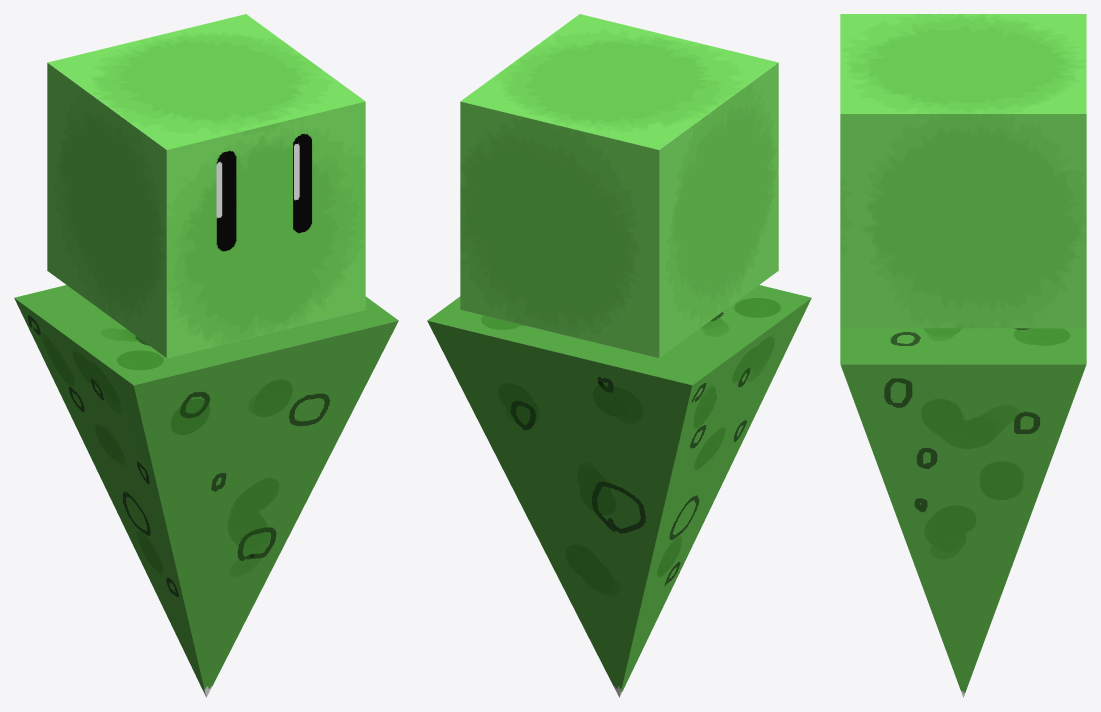
File: clone_head.obj
3 renders of one model, left to right at view 1: azimuth 30°, elevation 25°; view 2: azimuth 150°, elevation 25°; view 3: azimuth 270°, elevation 25°, orthographic. The views are drawn at different scales.
Visible parts, largest first — view 1: head; view 2: head; view 3: head.
Boxes of the visible parts, bbox=[...] form: head: bbox=[14, 14, 398, 697]; head: bbox=[427, 14, 811, 697]; head: bbox=[840, 14, 1086, 697].
Size of the model in its own units: 0.2639 by 0.5856 by 0.2061.
Materials: 1 (1 with a texture image).
